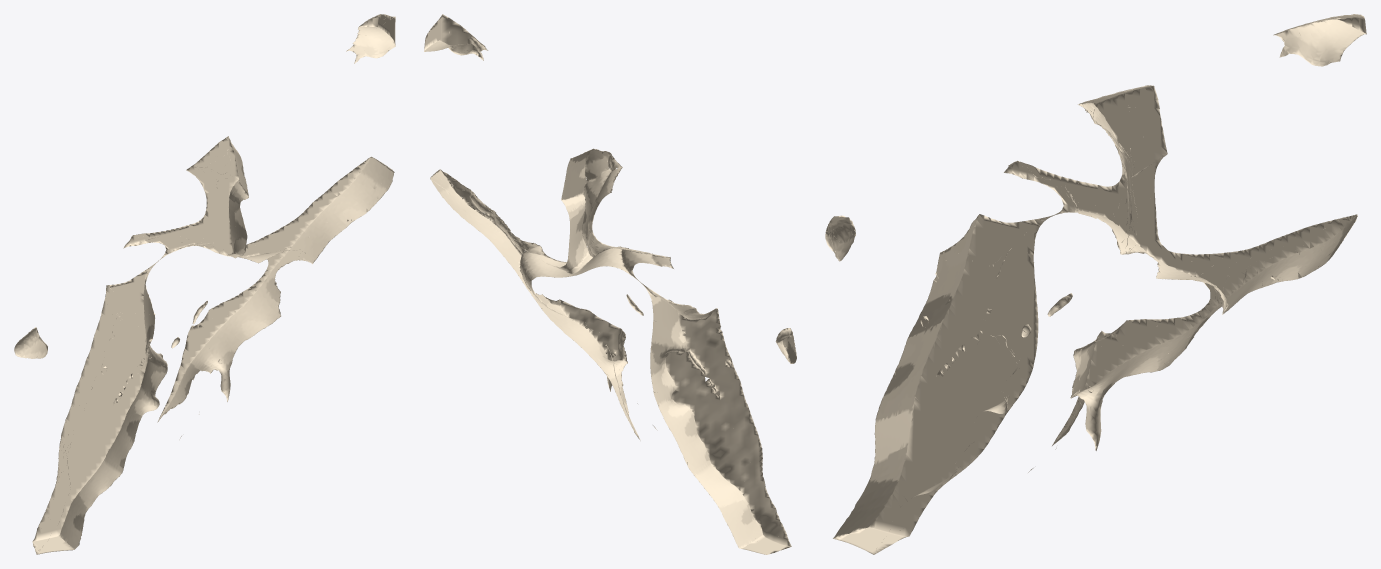
The model's file is Qnk2.gltf.
3 renders of one model, left to right at view 1: azimuth 30°, elevation 25°; view 2: azimuth 150°, elevation 25°; view 3: azimuth 330°, elevation 25°, orthographic. The views are drawn at different scales.
Visible parts, largest first — view 1: Switch_Switch_osgPicked_gmeGeoEntityGeode_Geometry_Geometry_ (×2), Switch_Switch_osgPicked_gmeGeoEntityGeode_Geometry_0; view 2: Switch_Switch_osgPicked_gmeGeoEntityGeode_Geometry_Geometry_ (×2), Switch_Switch_osgPicked_gmeGeoEntityGeode_Geometry_0; view 3: Switch_Switch_osgPicked_gmeGeoEntityGeode_Geometry_Geometry_ (×2), Switch_Switch_osgPicked_gmeGeoEntityGeode_Geometry_0.
Part boxes in pixels (x1,y1,x2,y2): Switch_Switch_osgPicked_gmeGeoEntityGeode_Geometry_Geometry_ (×2): [32, 14, 395, 554]; Switch_Switch_osgPicked_gmeGeoEntityGeode_Geometry_0: [14, 327, 47, 358]; Switch_Switch_osgPicked_gmeGeoEntityGeode_Geometry_Geometry_ (×2): [424, 14, 791, 554]; Switch_Switch_osgPicked_gmeGeoEntityGeode_Geometry_0: [775, 328, 796, 363]; Switch_Switch_osgPicked_gmeGeoEntityGeode_Geometry_Geometry_ (×2): [833, 14, 1366, 554]; Switch_Switch_osgPicked_gmeGeoEntityGeode_Geometry_0: [825, 215, 855, 261].
Size of what is drawn, in the model's own units: 37468 by 43712 by 4141.
